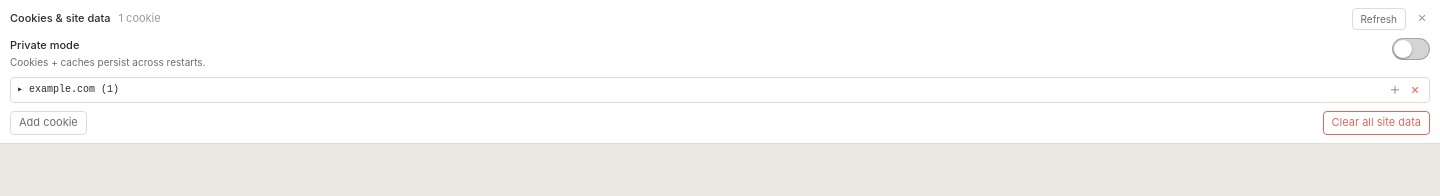
storage panel density (S12, S28, S34, S37) › S28 — every glyph button is an explicit box, 16 px at panel level and 14 in a row
The width and height of the screenshot is (1440, 196).
# The row delete is the smaller of the Swift's two sizes.
Click the button with test id "web-cookie-group-example.com": (62, 90) [17,83,1383,97]
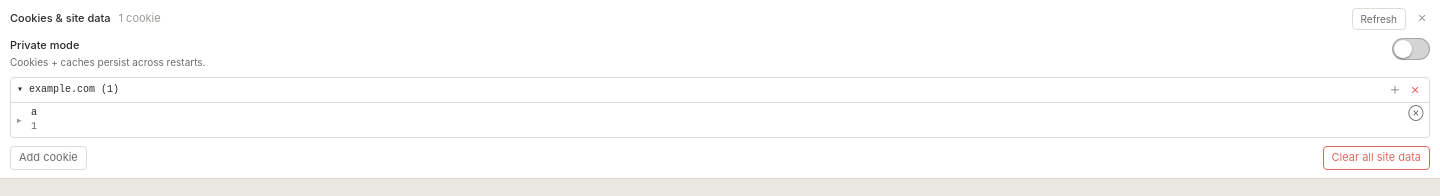
Check: the button with test id "web-cookie-delete-a" is shown, box [1409,106,1423,120]
